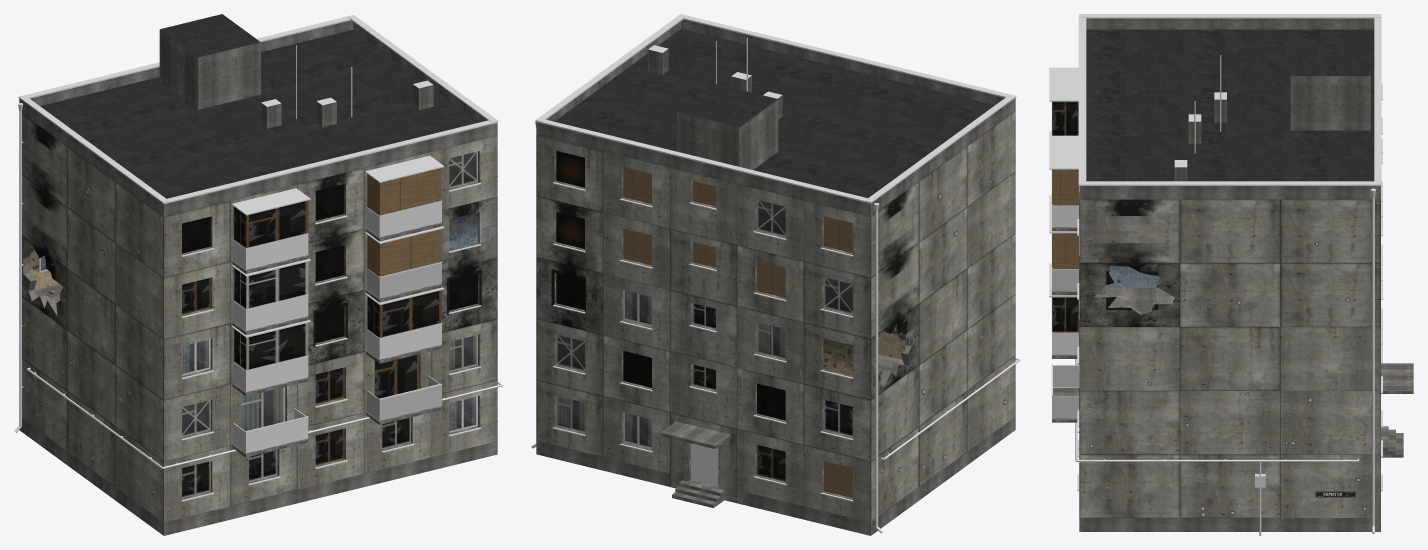
The model's file is S1U_KH_Burnt.fbx.
3 views of the same model, side by side, from view 1: azimuth 30°, elevation 25°; view 2: azimuth 150°, elevation 25°; view 3: azimuth 270°, elevation 25° (orthographic). The views are drawn at different scales.
Parts seen in each view (by area): view 1: S1U_KH_Burnt; view 2: S1U_KH_Burnt; view 3: S1U_KH_Burnt.
Boxes of the visible parts, left/top/right/bottom form: S1U_KH_Burnt: left=14, top=14, right=502, bottom=535; S1U_KH_Burnt: left=531, top=14, right=1020, bottom=535; S1U_KH_Burnt: left=1049, top=14, right=1413, bottom=535.
Size of the model in its own units: 16.79 by 18.04 by 14.5.
